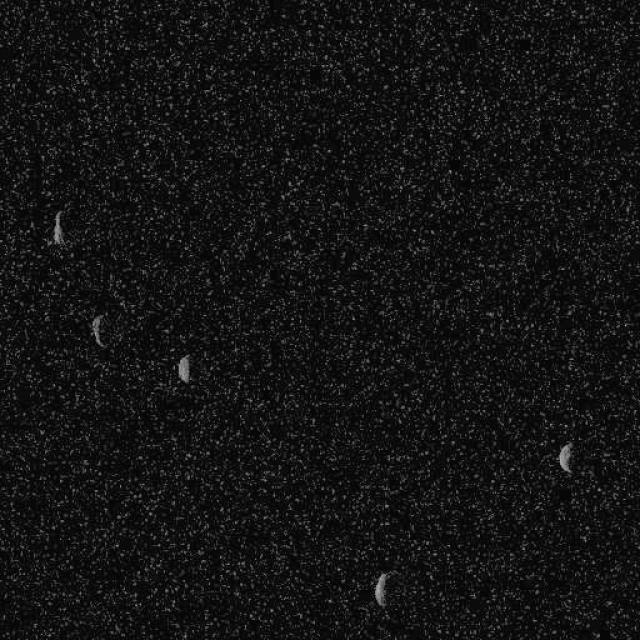D2: (89, 311, 108, 349), (372, 572, 388, 608), (558, 440, 574, 474), (51, 209, 65, 245), (176, 354, 192, 384)
